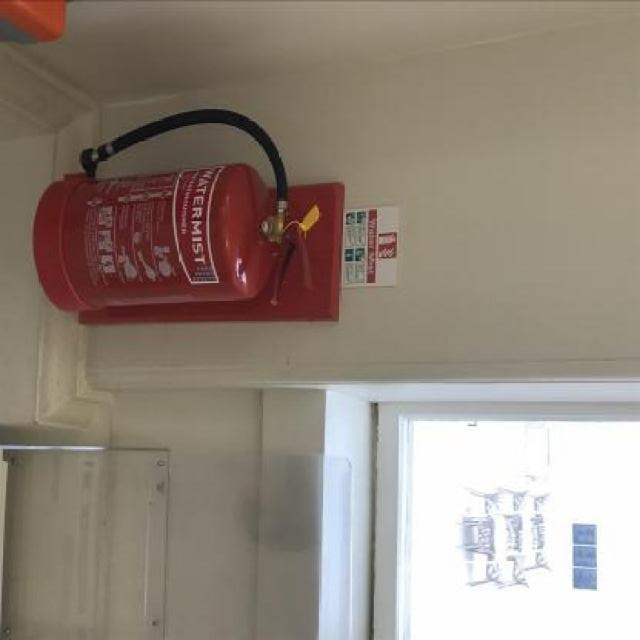fire extinguisher: (30, 110, 322, 318)
